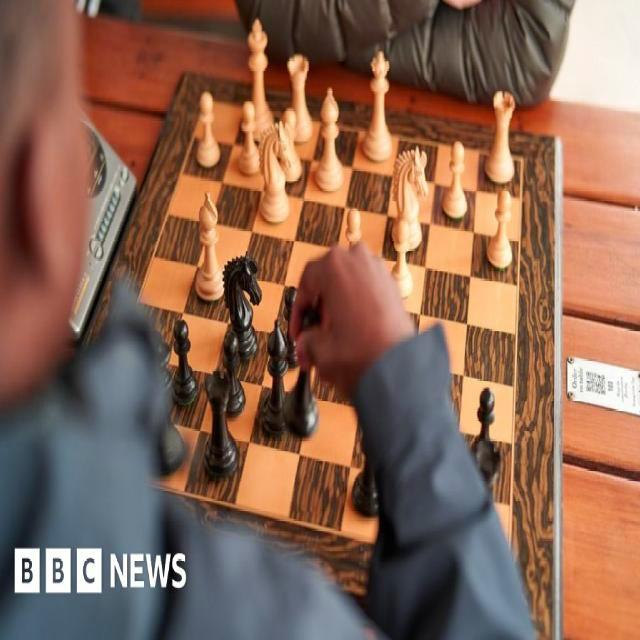chess-table-corners: (514, 140, 533, 170)
